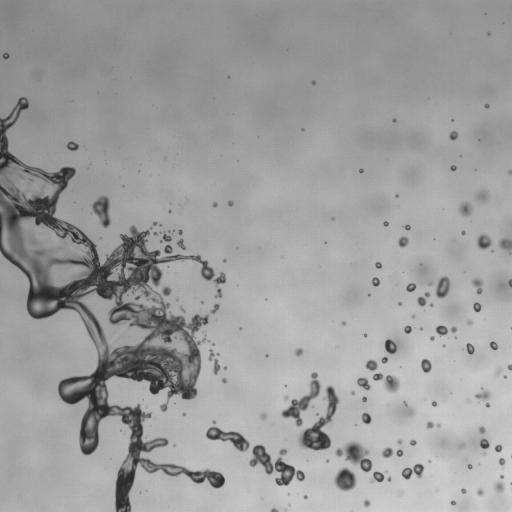droplet: (334, 440, 372, 473), (90, 195, 111, 228), (372, 372, 400, 393), (334, 467, 356, 491), (401, 463, 424, 479), (474, 386, 491, 407), (435, 276, 450, 298), (476, 234, 492, 250), (369, 469, 387, 483), (475, 188, 490, 204), (458, 201, 473, 217), (498, 238, 511, 255), (493, 474, 505, 492), (471, 277, 483, 294), (417, 291, 430, 306), (356, 377, 371, 390), (384, 338, 396, 354), (461, 342, 474, 354), (365, 359, 378, 371), (381, 446, 393, 458), (421, 358, 431, 372), (397, 236, 409, 247), (48, 162, 59, 173), (469, 199, 480, 210), (89, 213, 100, 224), (457, 215, 468, 226), (144, 240, 155, 251), (166, 306, 177, 317), (474, 341, 485, 352), (197, 343, 208, 354), (200, 359, 211, 370), (85, 362, 96, 373), (376, 363, 387, 374), (105, 375, 116, 386), (121, 376, 132, 387), (78, 397, 89, 408), (109, 413, 120, 424), (98, 417, 109, 428), (302, 417, 313, 428), (121, 424, 132, 435), (351, 433, 362, 444), (120, 434, 131, 445), (329, 437, 340, 448), (336, 437, 347, 448), (357, 437, 368, 448), (323, 446, 334, 457), (242, 448, 253, 459), (348, 462, 359, 473), (483, 484, 494, 495), (126, 489, 137, 500), (66, 141, 78, 151), (176, 238, 186, 250), (361, 412, 371, 424), (494, 366, 504, 377), (479, 438, 489, 449), (406, 282, 416, 292), (456, 440, 466, 450), (210, 303, 219, 314), (449, 130, 458, 140), (473, 302, 482, 312), (498, 457, 505, 469), (371, 277, 380, 286), (489, 341, 498, 350), (294, 347, 303, 356), (4, 128, 13, 137), (6, 144, 15, 153), (66, 177, 75, 186), (217, 198, 226, 207), (451, 202, 460, 211), (106, 207, 115, 216), (452, 209, 461, 218), (160, 223, 169, 232), (170, 232, 179, 241), (489, 240, 498, 249), (171, 245, 180, 254), (97, 256, 106, 265), (373, 268, 382, 277), (158, 277, 167, 286), (154, 283, 163, 292), (413, 288, 422, 297), (428, 293, 437, 302), (475, 294, 484, 303), (192, 330, 201, 339), (364, 369, 373, 378), (141, 378, 150, 387), (376, 378, 385, 387), (301, 386, 310, 395), (356, 386, 365, 395), (158, 387, 167, 396), (318, 388, 327, 397), (172, 392, 181, 401), (140, 418, 149, 427), (401, 442, 410, 451), (120, 446, 129, 455), (282, 455, 291, 464), (134, 465, 143, 474), (330, 466, 339, 475), (271, 469, 280, 478), (466, 486, 475, 495), (107, 494, 116, 503), (259, 411, 267, 420), (494, 444, 503, 452), (476, 487, 484, 496), (396, 447, 403, 457), (505, 457, 511, 468), (505, 470, 511, 481), (105, 505, 116, 511), (403, 325, 411, 333), (152, 221, 162, 227), (402, 224, 410, 231), (380, 356, 388, 363), (363, 499, 370, 507), (0, 108, 5, 119), (2, 52, 9, 59), (478, 426, 485, 433), (25, 159, 32, 166), (63, 160, 70, 167), (58, 191, 65, 198), (91, 194, 98, 201), (54, 201, 61, 208), (108, 220, 115, 227), (136, 225, 143, 232), (401, 229, 408, 236), (87, 233, 94, 240), (471, 238, 478, 245), (169, 239, 176, 246), (157, 244, 164, 251), (482, 247, 489, 254), (501, 248, 508, 255), (159, 250, 166, 257), (156, 262, 163, 269), (212, 271, 219, 278), (476, 272, 483, 279), (146, 278, 153, 285), (207, 278, 214, 285), (22, 287, 29, 294), (429, 287, 436, 294), (445, 291, 452, 298), (162, 295, 169, 302), (424, 296, 431, 303), (44, 315, 51, 322), (41, 316, 48, 323), (184, 316, 191, 323), (198, 323, 205, 330), (374, 356, 381, 363), (75, 369, 82, 376), (69, 370, 76, 377), (64, 371, 71, 378), (367, 378, 374, 385), (483, 384, 490, 391), (333, 388, 340, 395), (294, 393, 301, 400), (106, 398, 113, 405), (308, 398, 315, 405), (478, 398, 485, 405), (62, 401, 69, 408), (129, 401, 136, 408), (283, 401, 290, 408), (335, 402, 342, 409), (139, 405, 146, 412), (298, 409, 305, 416), (265, 415, 272, 422), (287, 415, 294, 422), (355, 416, 362, 423), (74, 423, 81, 430), (221, 425, 228, 432), (319, 425, 326, 432), (477, 432, 484, 439), (225, 439, 232, 446), (488, 441, 495, 448), (377, 445, 384, 452), (74, 446, 81, 453), (93, 447, 100, 454), (306, 447, 313, 454), (317, 448, 324, 455), (459, 448, 466, 455), (138, 450, 145, 457), (494, 451, 501, 458), (269, 456, 276, 463), (255, 462, 262, 469), (188, 464, 195, 471), (208, 464, 215, 471), (179, 472, 186, 479), (110, 474, 117, 481), (501, 477, 508, 484), (220, 483, 227, 490), (345, 488, 352, 495), (495, 491, 502, 498), (506, 231, 511, 240), (362, 506, 371, 511), (447, 506, 456, 511), (450, 165, 457, 171), (375, 261, 381, 268), (466, 319, 473, 325), (431, 400, 438, 406), (396, 438, 402, 445), (397, 489, 403, 496), (409, 440, 417, 445), (227, 200, 233, 206), (427, 280, 433, 286), (221, 377, 227, 383), (466, 464, 473, 469), (270, 507, 278, 511), (212, 201, 217, 207), (177, 229, 182, 235), (341, 320, 346, 326), (362, 396, 367, 402), (464, 398, 470, 403), (460, 488, 466, 493), (450, 500, 456, 505), (507, 364, 511, 371), (387, 475, 391, 482), (507, 370, 511, 377), (311, 80, 316, 85), (358, 168, 363, 173), (383, 221, 388, 226), (397, 301, 402, 306), (410, 314, 415, 319), (350, 390, 355, 395), (434, 487, 439, 492), (310, 75, 315, 80), (12, 99, 17, 104), (27, 102, 32, 107), (17, 115, 22, 120), (445, 130, 450, 135), (73, 138, 78, 143), (452, 138, 457, 143), (77, 145, 82, 150), (67, 149, 72, 154), (71, 149, 76, 154), (74, 169, 79, 174), (227, 195, 232, 200), (208, 199, 213, 204), (216, 203, 221, 208), (88, 206, 93, 211), (52, 212, 57, 217), (68, 219, 73, 224), (127, 221, 132, 226), (97, 222, 102, 227), (152, 225, 157, 230), (126, 232, 131, 237), (157, 233, 162, 238), (179, 233, 184, 238), (118, 238, 123, 243), (92, 239, 97, 244), (162, 240, 167, 245), (182, 240, 187, 245), (393, 240, 398, 245), (94, 245, 99, 250), (402, 245, 407, 250), (170, 250, 175, 255), (192, 251, 197, 256), (200, 255, 205, 260), (4, 258, 9, 263), (176, 258, 181, 263), (187, 258, 192, 263), (167, 260, 172, 265), (197, 262, 202, 267), (206, 262, 211, 267), (13, 265, 18, 270), (22, 274, 27, 279), (224, 274, 229, 279), (199, 276, 204, 281), (24, 279, 29, 284), (433, 280, 438, 285), (217, 282, 222, 287), (480, 284, 485, 289), (472, 285, 477, 290), (212, 289, 217, 294), (220, 289, 225, 294), (405, 290, 410, 295), (419, 292, 424, 297), (439, 296, 444, 301), (215, 297, 220, 302), (177, 299, 182, 304), (413, 300, 418, 305), (424, 301, 429, 306), (208, 304, 213, 309), (479, 307, 484, 312), (199, 312, 204, 317), (26, 314, 31, 319), (207, 316, 212, 321), (339, 316, 344, 321), (336, 319, 341, 324), (434, 321, 439, 326), (465, 324, 470, 329), (446, 325, 451, 330), (81, 326, 86, 331), (446, 330, 451, 335), (454, 330, 459, 335), (433, 331, 438, 336), (85, 334, 90, 339), (441, 334, 446, 339), (388, 335, 393, 340), (469, 339, 474, 344), (295, 343, 300, 348), (380, 343, 385, 348), (395, 347, 400, 352), (212, 348, 217, 353), (384, 351, 389, 356), (299, 353, 304, 358), (429, 359, 434, 364), (209, 360, 214, 365), (217, 360, 222, 365), (361, 360, 366, 365), (385, 360, 390, 365), (416, 361, 421, 366), (502, 363, 507, 368), (430, 364, 435, 369), (417, 366, 422, 371), (218, 367, 223, 372), (312, 367, 317, 372), (429, 367, 434, 372), (308, 368, 313, 373), (373, 368, 378, 373), (198, 369, 203, 374), (382, 371, 387, 376), (498, 372, 503, 377), (315, 375, 320, 380), (120, 376, 125, 381), (307, 376, 312, 381), (352, 377, 357, 382), (53, 383, 58, 388), (193, 383, 198, 388), (476, 388, 481, 393), (55, 394, 60, 399), (472, 396, 477, 401), (183, 398, 188, 403), (487, 398, 492, 403), (119, 403, 124, 408), (306, 405, 311, 410), (333, 410, 338, 415), (321, 412, 326, 417), (369, 413, 374, 418), (116, 414, 121, 419), (330, 414, 335, 419), (432, 419, 437, 424), (422, 420, 427, 425), (208, 422, 213, 427), (362, 422, 367, 427), (432, 425, 437, 430), (474, 425, 479, 430), (233, 427, 238, 432), (427, 427, 432, 432), (201, 430, 206, 435), (159, 433, 164, 438), (242, 433, 247, 438), (393, 435, 398, 440), (412, 435, 417, 440), (215, 438, 220, 443), (167, 440, 172, 445), (280, 443, 285, 448), (153, 446, 158, 451), (480, 447, 485, 452), (483, 447, 488, 452), (264, 448, 269, 453), (391, 448, 396, 453), (504, 458, 509, 463), (166, 459, 171, 464), (416, 459, 421, 464), (173, 460, 178, 465), (503, 461, 508, 466), (495, 462, 500, 467), (408, 463, 413, 468), (248, 465, 253, 470), (293, 465, 298, 470), (398, 466, 403, 471), (157, 468, 162, 473), (368, 469, 373, 474), (421, 469, 426, 474), (303, 471, 308, 476), (410, 471, 415, 476), (163, 473, 168, 478), (222, 473, 227, 478), (383, 473, 388, 478), (170, 475, 175, 480), (291, 475, 296, 480), (400, 476, 405, 481), (382, 477, 387, 482), (203, 478, 208, 483), (223, 479, 228, 484), (373, 479, 378, 484), (280, 483, 285, 488), (479, 484, 484, 489), (211, 486, 216, 491), (465, 487, 470, 492), (482, 491, 487, 496), (473, 493, 478, 498), (479, 494, 484, 499), (360, 496, 365, 501), (369, 499, 374, 504), (358, 500, 363, 505), (267, 504, 272, 509), (274, 504, 279, 509), (507, 169, 511, 175), (0, 205, 3, 212), (0, 252, 3, 259), (486, 31, 491, 35), (484, 104, 489, 108), (461, 230, 465, 235), (222, 258, 227, 262), (429, 302, 433, 307), (362, 333, 367, 337), (429, 336, 434, 340), (303, 494, 307, 499), (392, 118, 396, 122), (264, 353, 268, 357), (223, 366, 227, 370), (182, 412, 186, 416), (325, 459, 329, 463), (508, 164, 511, 169), (508, 174, 511, 179), (508, 359, 511, 364), (277, 508, 282, 511), (301, 128, 305, 131), (168, 209, 171, 213), (331, 217, 335, 220), (490, 249, 494, 252), (175, 297, 178, 301), (200, 300, 204, 303), (239, 326, 242, 330), (503, 375, 507, 378), (141, 385, 144, 389), (315, 412, 319, 415), (212, 420, 215, 424), (482, 452, 486, 455), (428, 459, 431, 463), (0, 54, 2, 59), (227, 75, 230, 78), (459, 154, 462, 157), (474, 168, 477, 171), (395, 194, 398, 197), (99, 236, 102, 239), (368, 293, 371, 296), (419, 327, 422, 330), (454, 336, 457, 339), (442, 344, 445, 347), (284, 384, 287, 387), (424, 397, 427, 400), (287, 492, 290, 495), (284, 508, 287, 511), (485, 28, 488, 31), (483, 32, 486, 35), (487, 35, 490, 38), (6, 57, 9, 60), (227, 72, 230, 75), (226, 78, 229, 81), (315, 81, 318, 84), (308, 82, 311, 85), (311, 84, 314, 87), (18, 94, 21, 97), (23, 94, 26, 97), (484, 100, 487, 103), (488, 104, 491, 107), (484, 107, 487, 110), (391, 115, 394, 118), (452, 116, 455, 119), (395, 117, 398, 120), (389, 118, 392, 121), (447, 118, 450, 121), (393, 121, 396, 124), (301, 124, 304, 127), (297, 127, 300, 130), (300, 130, 303, 133), (479, 137, 482, 140), (64, 141, 67, 144), (22, 160, 25, 163), (449, 162, 452, 165), (454, 163, 457, 166), (359, 165, 362, 168), (362, 167, 365, 170), (447, 167, 450, 170), (139, 170, 142, 173), (452, 170, 455, 173), (359, 172, 362, 175), (392, 192, 395, 195), (398, 193, 401, 196), (392, 195, 395, 198), (231, 204, 234, 207), (212, 206, 215, 209), (165, 208, 168, 211), (170, 208, 173, 211), (153, 218, 156, 221), (382, 218, 385, 221), (385, 218, 388, 221), (406, 221, 409, 224), (380, 222, 383, 225), (403, 222, 406, 225), (385, 225, 388, 228), (178, 226, 181, 229), (402, 227, 405, 230), (409, 227, 412, 230), (148, 229, 151, 232), (464, 229, 467, 232), (181, 231, 184, 234), (165, 232, 168, 235), (458, 232, 461, 235), (432, 239, 435, 242), (321, 240, 324, 243), (326, 240, 329, 243), (323, 243, 326, 246), (220, 256, 223, 259), (379, 260, 382, 263), (372, 264, 375, 267), (378, 267, 381, 270), (369, 276, 372, 279), (377, 276, 380, 279), (369, 282, 372, 285), (405, 282, 408, 285), (377, 283, 380, 286), (506, 283, 509, 286), (372, 285, 375, 288), (403, 287, 406, 290), (480, 291, 483, 294), (364, 293, 367, 296), (264, 294, 267, 297), (368, 295, 371, 298), (199, 297, 202, 300), (399, 298, 402, 301), (477, 300, 480, 303), (395, 303, 398, 306), (182, 305, 185, 308), (218, 305, 221, 308), (398, 305, 401, 308), (432, 305, 435, 308), (471, 308, 474, 311), (215, 309, 218, 312), (410, 311, 413, 314), (475, 311, 478, 314), (414, 315, 417, 318), (343, 318, 346, 321), (345, 322, 348, 325), (407, 322, 410, 325), (471, 323, 474, 326), (236, 324, 239, 327), (240, 324, 243, 327), (342, 325, 345, 328), (410, 326, 413, 329), (235, 327, 238, 330), (422, 327, 425, 330), (507, 327, 510, 330), (240, 328, 243, 331), (401, 329, 404, 332), (361, 330, 364, 333), (366, 333, 369, 336), (360, 334, 363, 337), (427, 334, 430, 337), (205, 336, 208, 339), (384, 337, 387, 340), (489, 338, 492, 341), (428, 339, 431, 342), (214, 341, 217, 344), (440, 346, 443, 349), (443, 346, 446, 349), (488, 346, 491, 349), (464, 349, 467, 352), (473, 349, 476, 352), (262, 352, 265, 355), (267, 352, 270, 355), (468, 353, 471, 356), (262, 355, 265, 358), (266, 356, 269, 359), (226, 367, 229, 370), (503, 378, 506, 381), (223, 382, 226, 385), (281, 384, 284, 387), (286, 384, 289, 387), (350, 394, 353, 397), (359, 395, 362, 398), (366, 397, 369, 400), (401, 397, 404, 400), (359, 398, 362, 401), (435, 399, 438, 402), (405, 400, 408, 403), (362, 401, 365, 404), (428, 401, 431, 404), (401, 403, 404, 406), (166, 404, 169, 407), (485, 406, 488, 409), (179, 411, 182, 414), (185, 412, 188, 415), (150, 413, 153, 416), (182, 415, 185, 418), (440, 424, 443, 427), (483, 424, 486, 427), (175, 443, 178, 446), (414, 443, 417, 446), (410, 444, 413, 447), (401, 448, 404, 451), (401, 453, 404, 456), (428, 456, 431, 459), (322, 459, 325, 462), (328, 459, 331, 462), (469, 461, 472, 464), (325, 462, 328, 465), (470, 467, 473, 470), (500, 471, 503, 474), (503, 475, 506, 478), (390, 477, 393, 480), (273, 481, 276, 484), (458, 490, 461, 493), (306, 493, 309, 496), (462, 493, 465, 496), (287, 495, 290, 498), (300, 495, 303, 498), (451, 497, 454, 500), (303, 498, 306, 501), (290, 503, 293, 506), (448, 503, 451, 506), (284, 504, 287, 507), (452, 504, 455, 507), (354, 424, 358, 426), (451, 119, 454, 121), (138, 170, 140, 173), (324, 241, 327, 243), (419, 263, 422, 265), (265, 298, 267, 301), (145, 405, 147, 408), (173, 444, 175, 447), (306, 458, 308, 461), (288, 503, 290, 506), (509, 248, 511, 251), (509, 254, 511, 257), (122, 185, 124, 187), (236, 284, 238, 286), (450, 392, 452, 394), (120, 429, 122, 431), (478, 463, 480, 465), (261, 497, 263, 499), (484, 13, 486, 14), (237, 160, 239, 161), (174, 402, 175, 404)
ligament: (205, 426, 305, 486), (296, 385, 340, 451), (207, 349, 220, 375), (435, 324, 457, 337), (403, 401, 413, 417), (426, 421, 441, 429), (178, 305, 186, 313), (167, 229, 175, 233), (508, 278, 511, 287), (509, 482, 511, 491), (167, 265, 169, 272), (510, 326, 511, 330), (510, 454, 511, 457)
